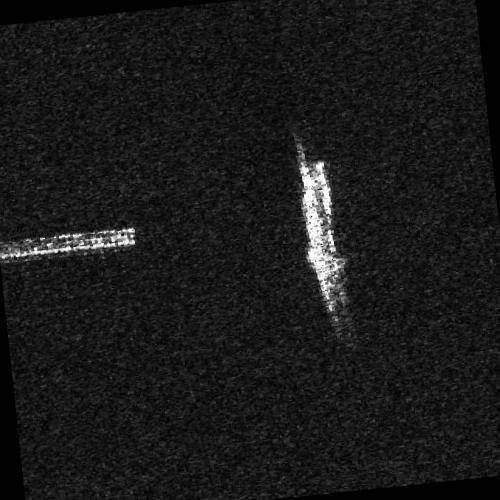ship: (296, 158, 343, 316)
